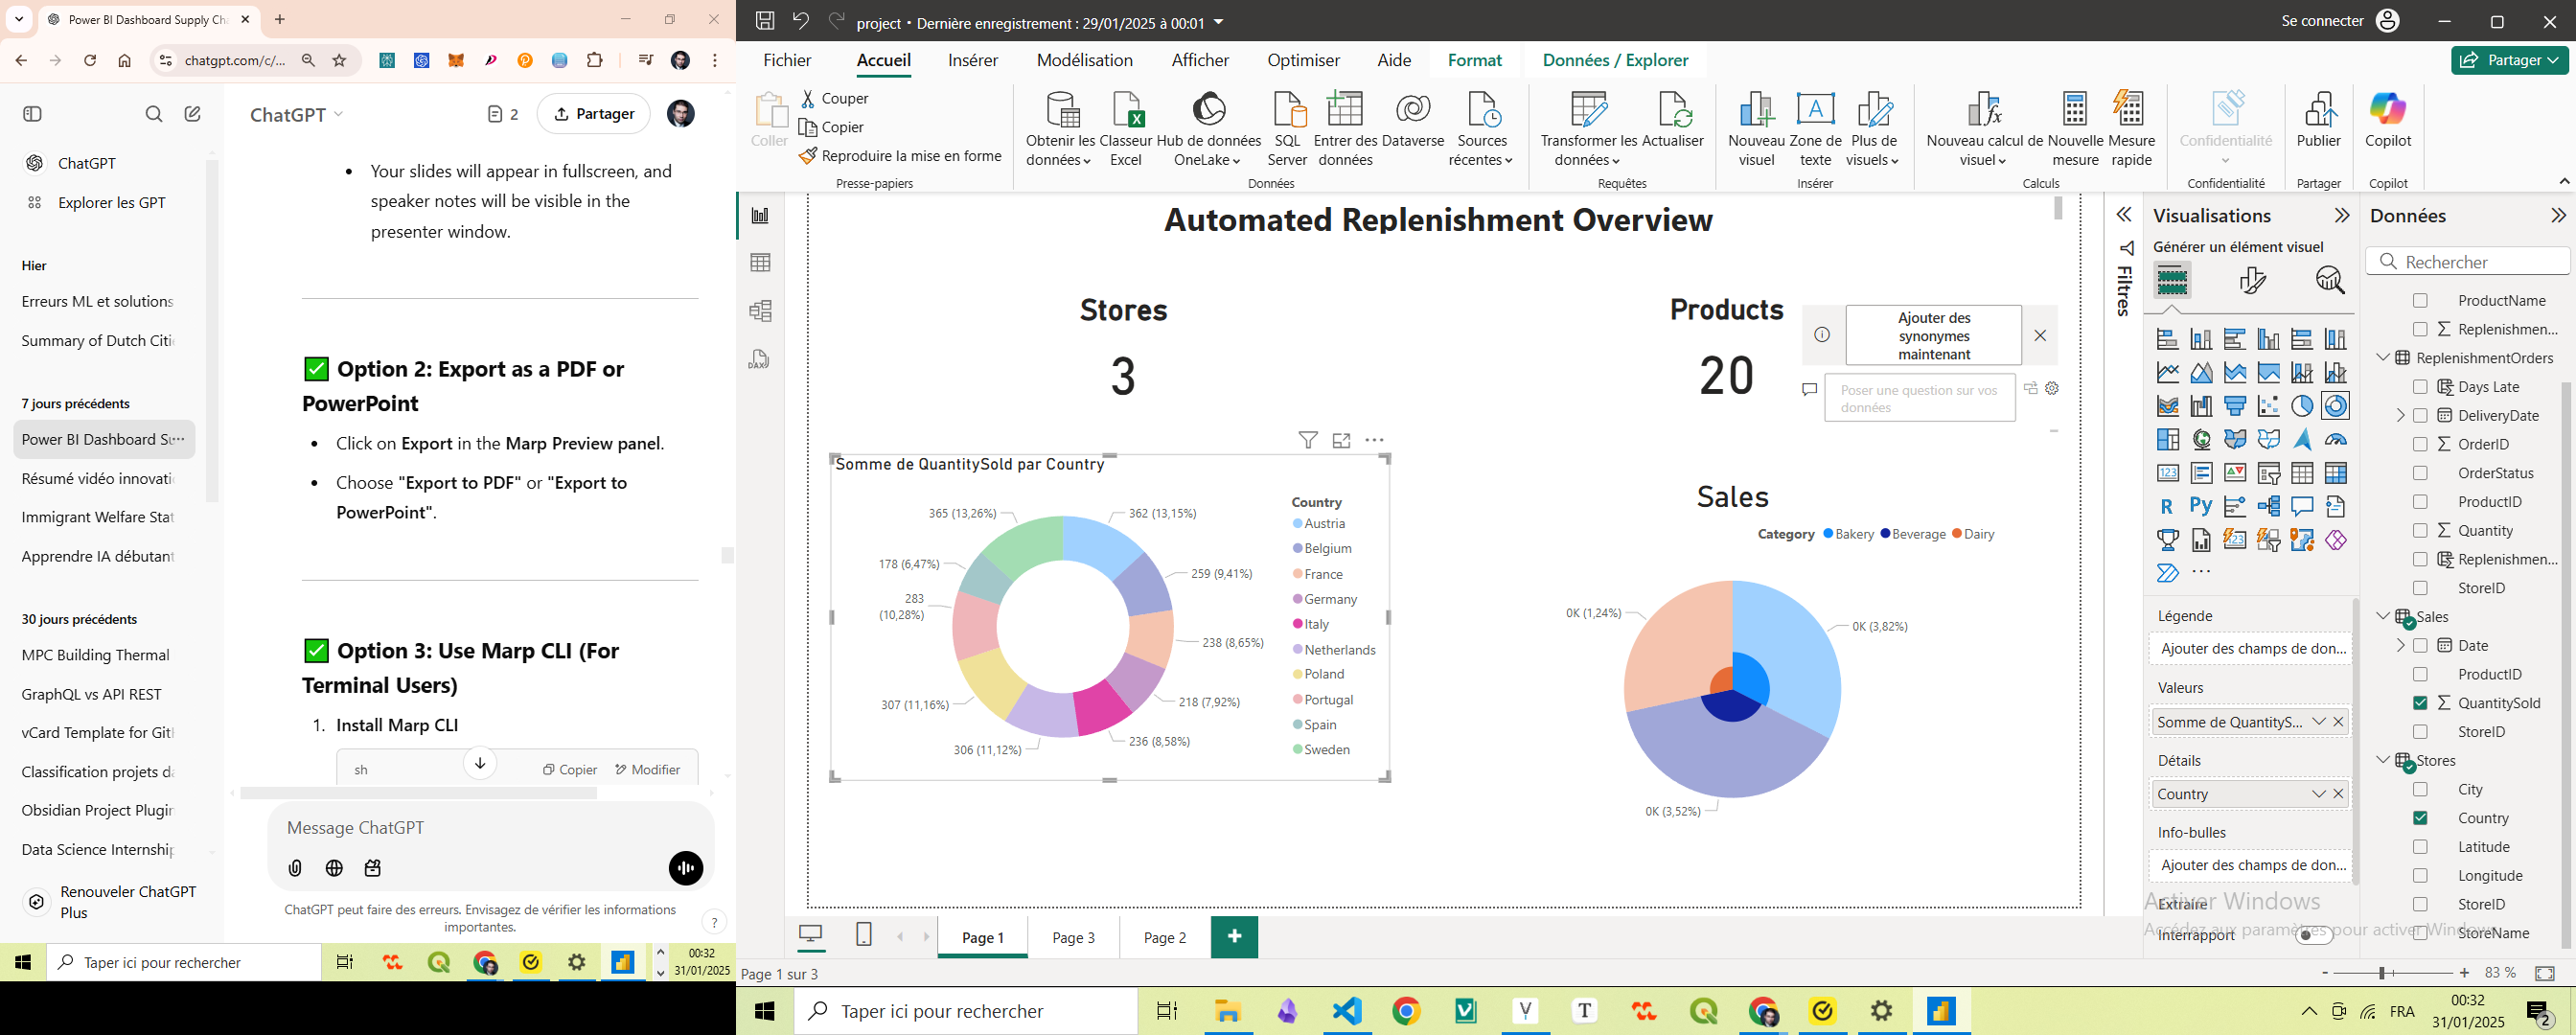

The dashboard page shown, as its layout file describes it:
{"tool":"powerbi","page":{"name":"Page 1","canvas":[1280,720],"ordinal":0},"visuals":[{"type":"textbox","box":[10,290,280,280],"z":0},{"type":"textbox","box":[9.7,0,1257.7,47.3],"z":1000},{"type":"card","title":"Stores","fields":{"Values":["CountNonNull(Stores.StoreID)"]},"box":[224.4,101.3,185.8,119.4],"z":2000},{"type":"card","title":"Products","fields":{"Values":["CountNonNull(Products.ProductID)"]},"box":[857.8,101.3,133.9,119.4],"z":3000},{"type":"donutChart","fields":{"Y":["Sum(Sales.QuantitySold)"],"Series":["Stores.Country"]},"box":[21.7,264.2,563.4,329.4],"z":4000},{"type":"pieChart","title":"Sales","fields":{"Series":["Products.Category"],"Y":["Sum(Sales.QuantitySold)"]},"box":[657.5,289.5,546.5,359.5],"z":5000},{"type":"qnaVisual","box":[991.7,101.3,275.8,150],"z":5001}]}

Visuals, with their boxes on the page's 1280x720 design canvas (x1, y1, x2, y2). These are canvas units, not pixel positions in the 2576x1035 screenshot, which may show the page scaled, cropped or inside an application window:
textbox: BBox(10, 290, 290, 570)
textbox: BBox(10, 0, 1267, 47)
"Stores" card: BBox(224, 101, 410, 221)
"Products" card: BBox(858, 101, 992, 221)
donutChart - Sum(Sales.QuantitySold) x Stores.Country: BBox(22, 264, 585, 594)
"Sales" pieChart: BBox(658, 290, 1204, 649)
qnaVisual: BBox(992, 101, 1268, 251)
